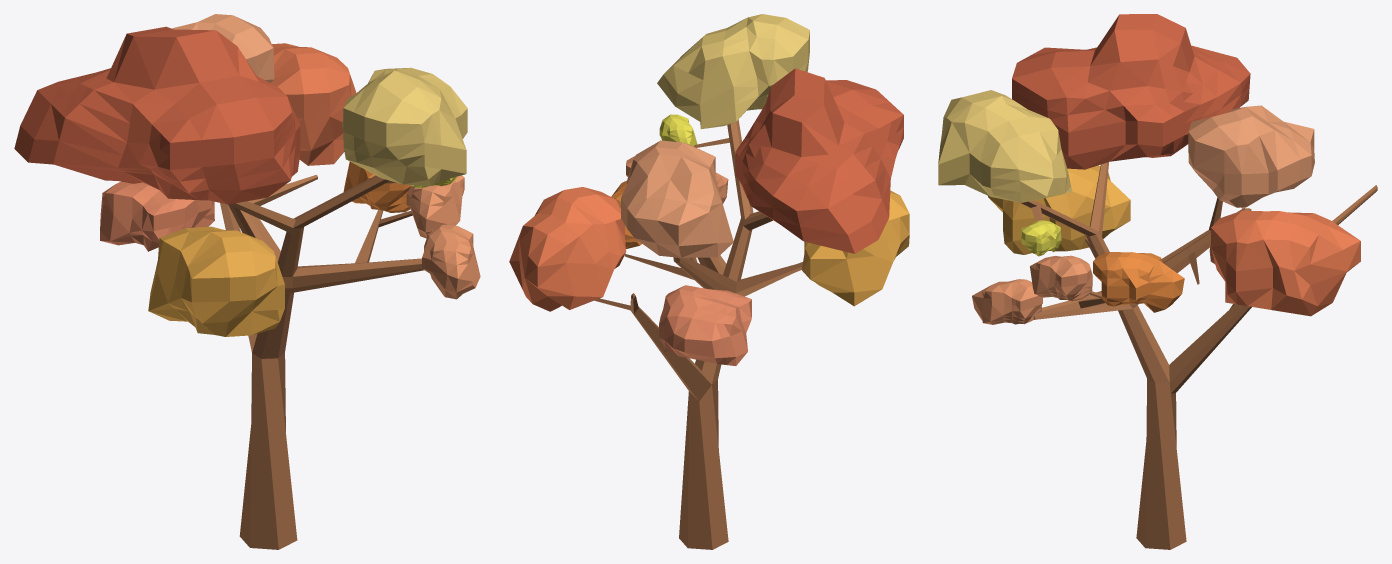
File: Tree 1.fbx
The picture shows the model from 3 angles, left to right: view 1: azimuth 30°, elevation 25°; view 2: azimuth 150°, elevation 25°; view 3: azimuth 270°, elevation 25°; orthographic projection. The views are drawn at different scales.
Visible parts, largest first — view 1: Tree 1; view 2: Tree 1; view 3: Tree 1.
Part boxes in pixels (x1=…): Tree 1: x1=14, y1=14, x2=480, y2=549; Tree 1: x1=509, y1=14, x2=909, y2=549; Tree 1: x1=938, y1=14, x2=1377, y2=549.
Size of the model in its own units: 4.43 by 5.29 by 6.32.
